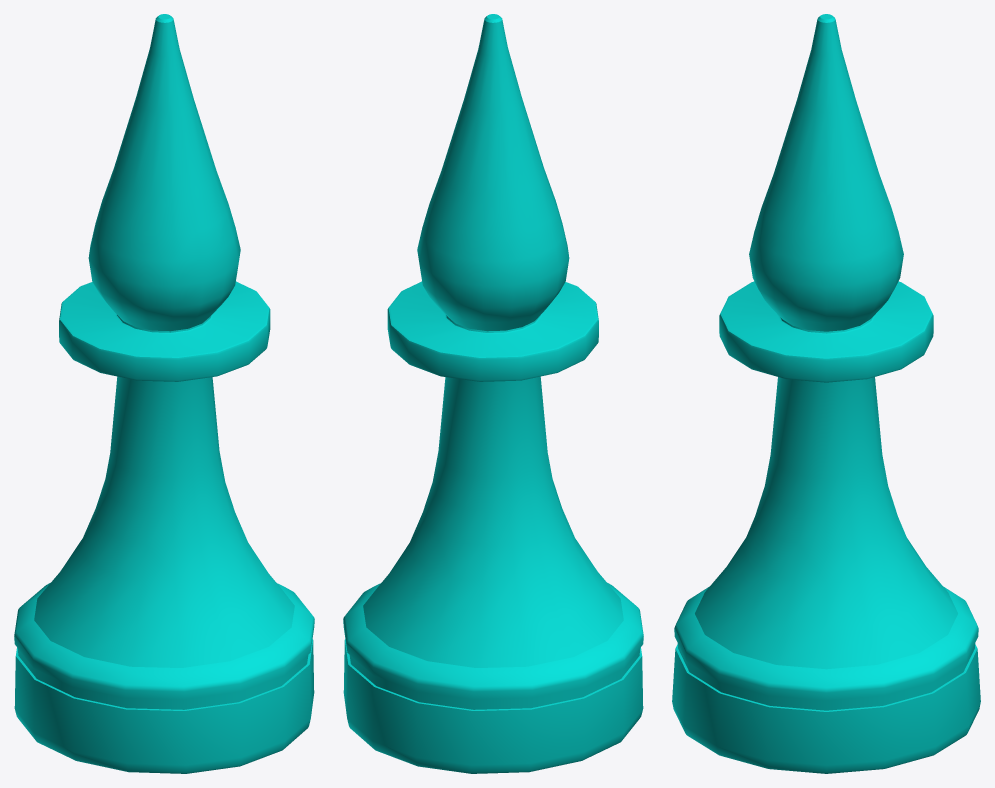
File: fil.fbx
3 views of the same model, side by side, from view 1: azimuth 30°, elevation 25°; view 2: azimuth 150°, elevation 25°; view 3: azimuth 270°, elevation 25° (orthographic).
Parts seen in each view (by area): view 1: Bishop.White.000; view 2: Bishop.White.000; view 3: Bishop.White.000.
Part boxes in pixels (<box>): Bishop.White.000: <box>14,14,314,773</box>; Bishop.White.000: <box>343,14,643,773</box>; Bishop.White.000: <box>672,14,980,773</box>.
Bounding box in the file's own units: 69.85 × 176 × 70.98.
